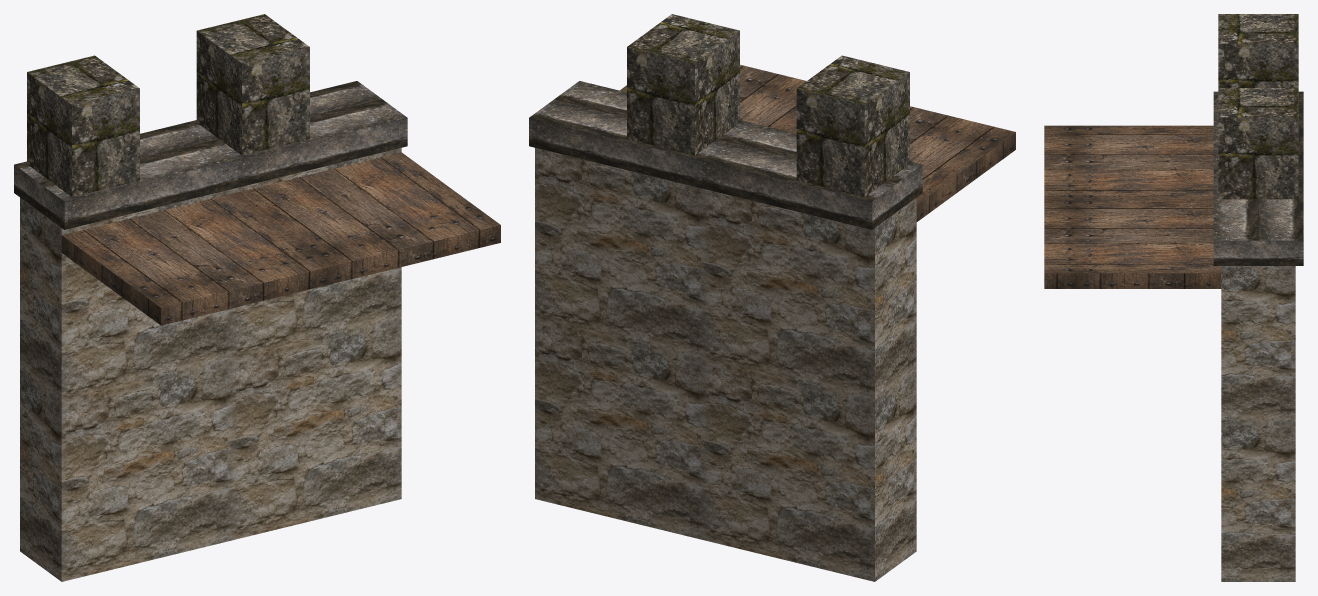
File: mauer_wehrgang_4m.glb
3 renders of one model, left to right at view 1: azimuth 30°, elevation 25°; view 2: azimuth 150°, elevation 25°; view 3: azimuth 270°, elevation 25°, orthographic. The views are drawn at different scales.
Parts seen in each view (by area): view 1: part_tuffmauer_moertel, part_holz_eiche_altert, part_tuffstein_moosig, part_treppenstein_abgelaufen; view 2: part_tuffmauer_moertel, part_tuffstein_moosig, part_treppenstein_abgelaufen, part_holz_eiche_altert; view 3: part_holz_eiche_altert, part_tuffmauer_moertel, part_tuffstein_moosig, part_treppenstein_abgelaufen.
Part boxes in pixels (<box>): part_tuffmauer_moertel: <box>20,148,401,581</box>; part_holz_eiche_altert: <box>43,152,500,325</box>; part_tuffstein_moosig: <box>27,14,309,196</box>; part_treppenstein_abgelaufen: <box>14,81,407,229</box>; part_tuffmauer_moertel: <box>535,148,916,581</box>; part_tuffstein_moosig: <box>627,14,909,196</box>; part_treppenstein_abgelaufen: <box>529,81,922,229</box>; part_holz_eiche_altert: <box>620,64,1015,221</box>; part_holz_eiche_altert: <box>1044,125,1253,288</box>; part_tuffmauer_moertel: <box>1221,266,1295,581</box>; part_tuffstein_moosig: <box>1218,14,1298,199</box>; part_treppenstein_abgelaufen: <box>1213,91,1303,265</box>.
Bounding box in the file's own units: 4.04 × 5.36 × 2.97.
Materials: 4 (4 with a texture image).
